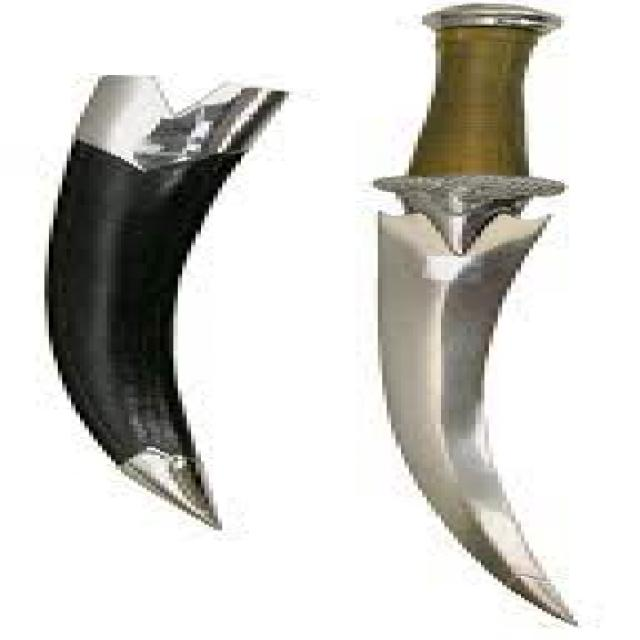Gun: (344, 7, 636, 624)
